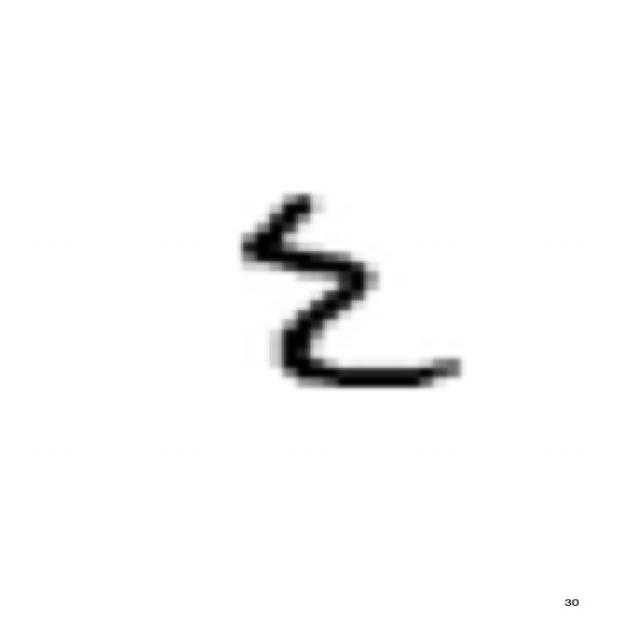4 -four-: (221, 183, 483, 398)
